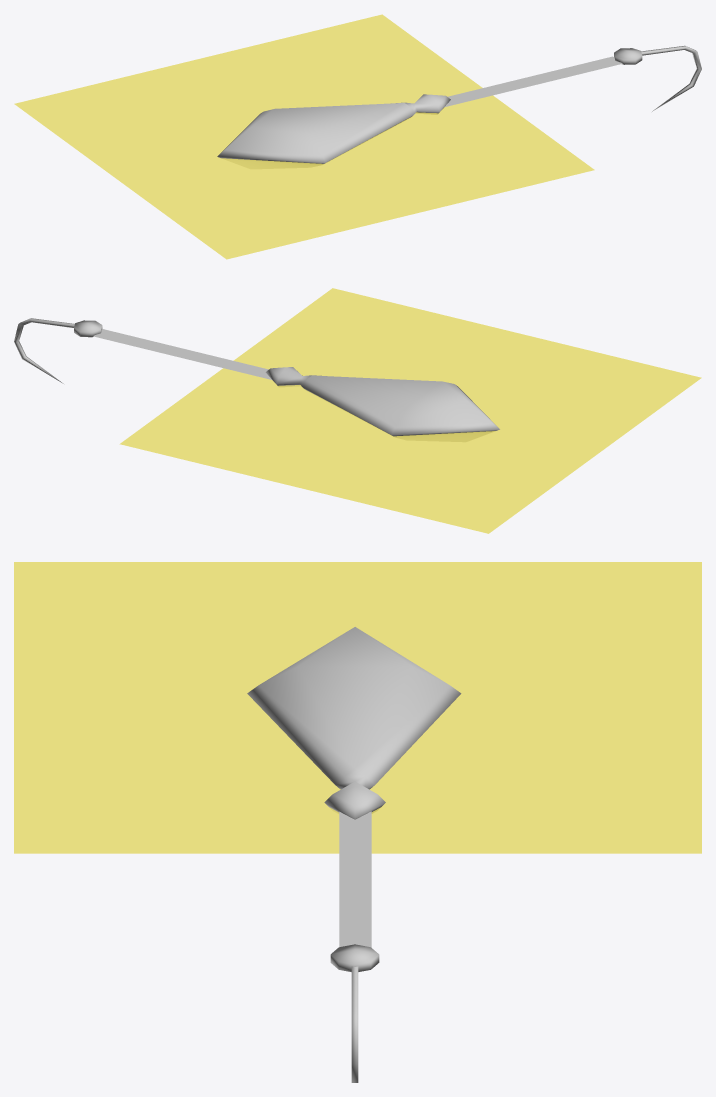
3 views of the same model, one above another, from view 1: azimuth 30°, elevation 25°; view 2: azimuth 150°, elevation 25°; view 3: azimuth 270°, elevation 25° (orthographic). The views are drawn at different scales.
Visible parts, largest first — view 1: Plane, C1246; view 2: Plane, C1246; view 3: Plane, C1246.
Boxes of the visible parts, x1,y1,x2,y2 form: Plane: (14,14,594,259); C1246: (217,45,701,168); Plane: (119,288,701,533); C1246: (14,318,499,441); Plane: (14,562,701,853); C1246: (247,627,461,1082).
Bounding box in the file's own units: 0.2077 × 0.0283 × 0.132.
